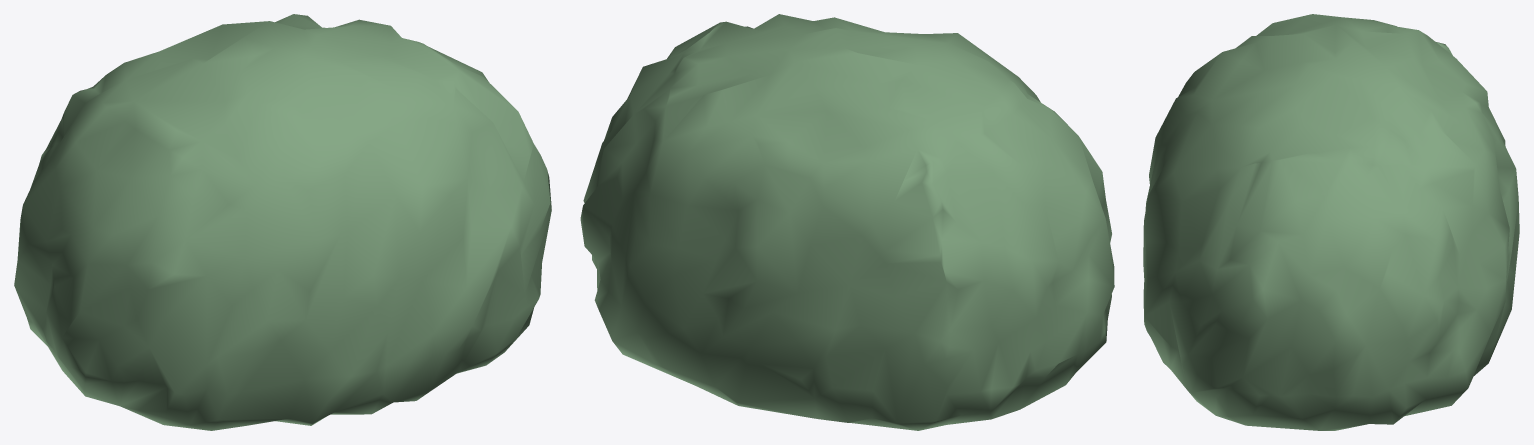
The model's file is Bush_Wide.fbx.
3 views of the same model, side by side, from view 1: azimuth 30°, elevation 25°; view 2: azimuth 150°, elevation 25°; view 3: azimuth 270°, elevation 25° (orthographic). The views are drawn at different scales.
Parts seen in each view (by area): view 1: pCube9; view 2: pCube9; view 3: pCube9.
Part boxes in pixels (x1,y1,x2,y2): pCube9: (14,14,551,430); pCube9: (580,14,1114,430); pCube9: (1143,14,1519,430).
Size of the model in its own units: 3.75 by 2.42 by 2.73.
